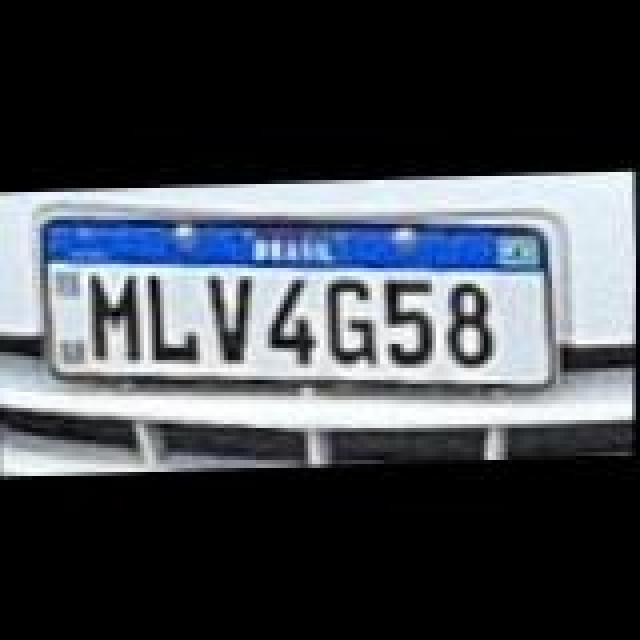4: (266, 274, 318, 358)
5: (382, 272, 434, 360)
8: (446, 276, 498, 360)
G: (326, 274, 378, 362)
L: (146, 270, 198, 358)
M: (90, 268, 142, 360)
V: (212, 270, 260, 358)
